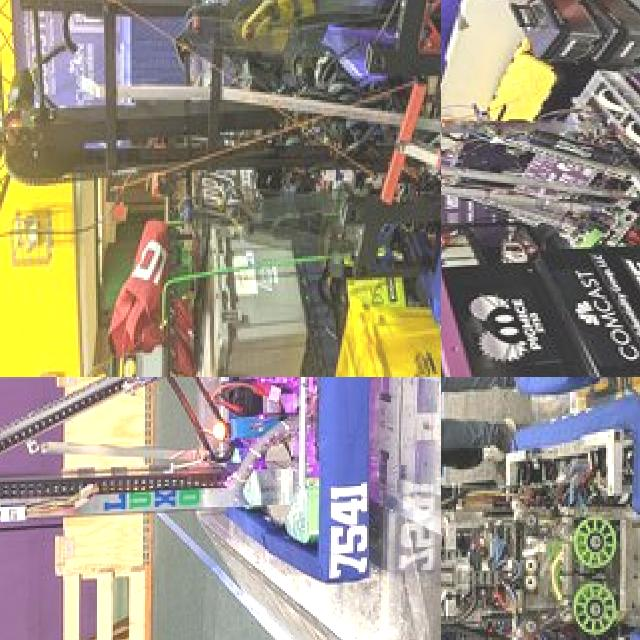FRC-Robots: (0, 0, 441, 329), (0, 377, 394, 599), (441, 386, 640, 640), (441, 66, 640, 250)
